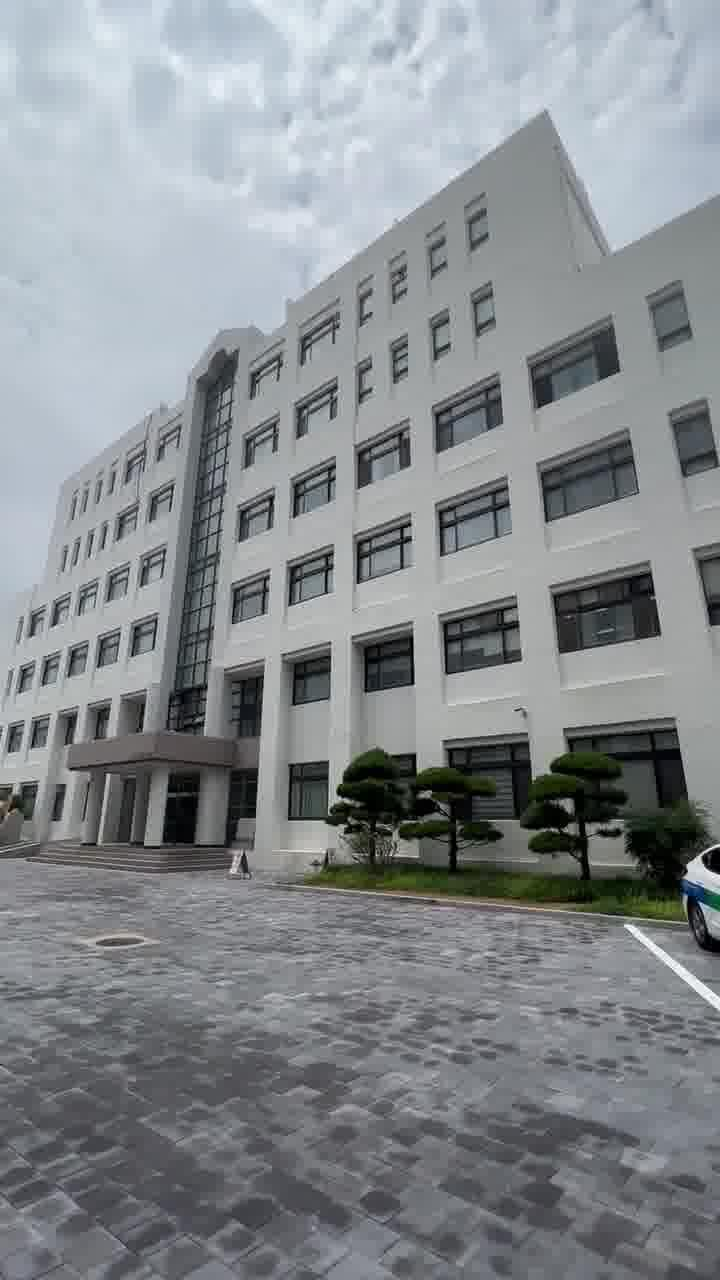building: (76, 268, 714, 764)
